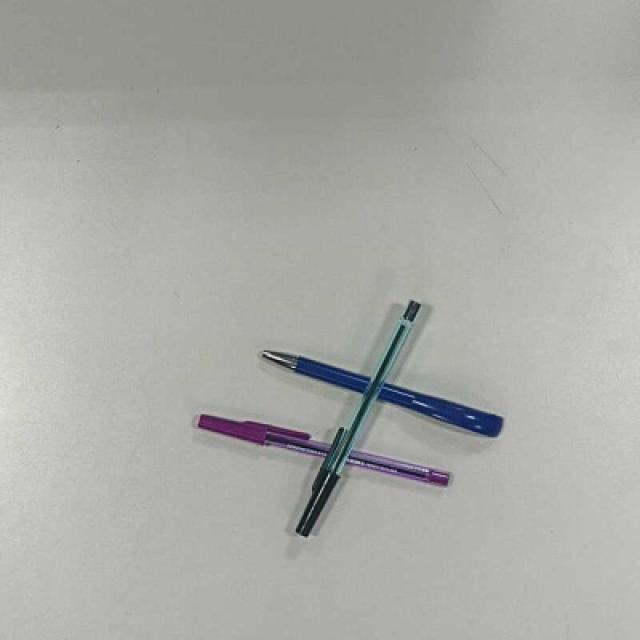caneta: (289, 295, 422, 541), (260, 341, 505, 440), (198, 409, 453, 489)
